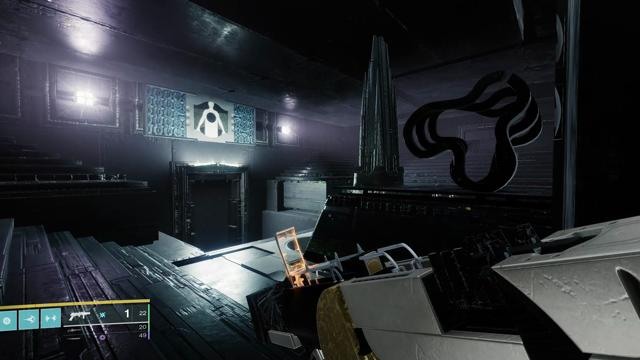grief: (194, 101, 228, 138)
